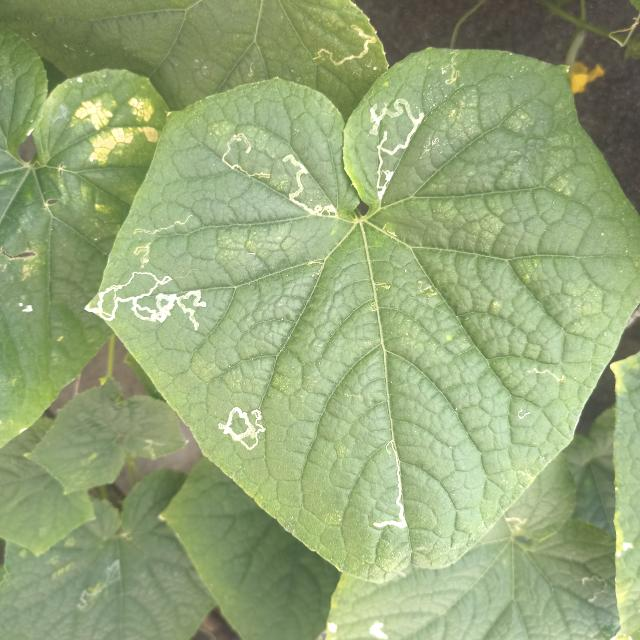disease_cucumber: (72, 97, 162, 166)
